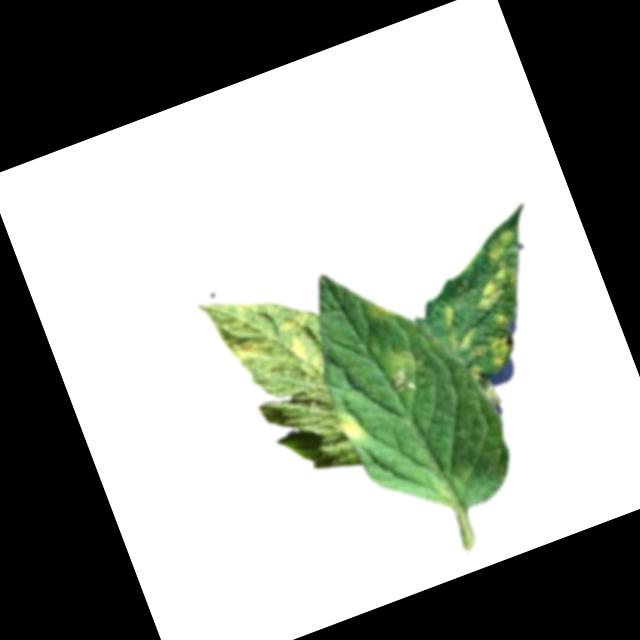Leaf_Mold: (202, 286, 278, 370), (279, 309, 330, 379), (435, 297, 481, 356), (470, 266, 521, 313), (333, 403, 374, 445), (479, 228, 522, 264), (483, 330, 519, 371)
